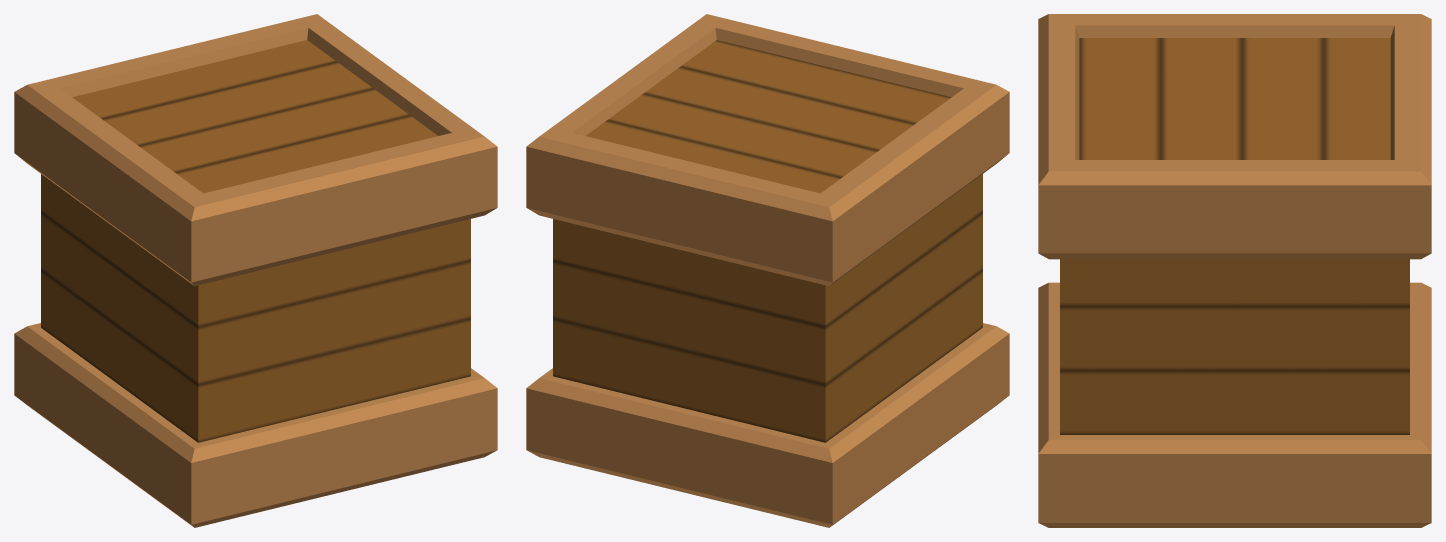
File: table.fbx
3 views of the same model, side by side, from view 1: azimuth 30°, elevation 25°; view 2: azimuth 150°, elevation 25°; view 3: azimuth 270°, elevation 25° (orthographic). The views are drawn at different scales.
Visible parts, largest first — view 1: table; view 2: table; view 3: table.
Boxes of the visible parts, bbox=[...] form: table: bbox=[14, 14, 497, 527]; table: bbox=[526, 14, 1009, 527]; table: bbox=[1038, 14, 1431, 527].
Bounding box in the file's own units: 110 × 110 × 110.
1 material, 1 textured.
